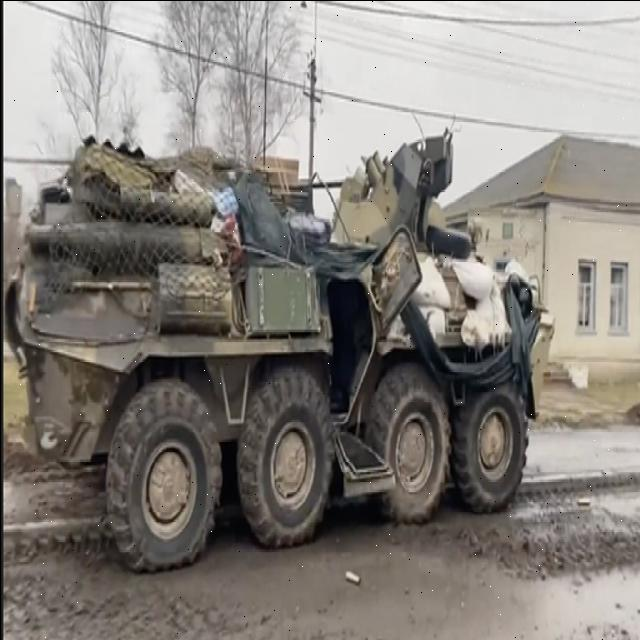APC-IFV: (12, 98, 532, 569)
